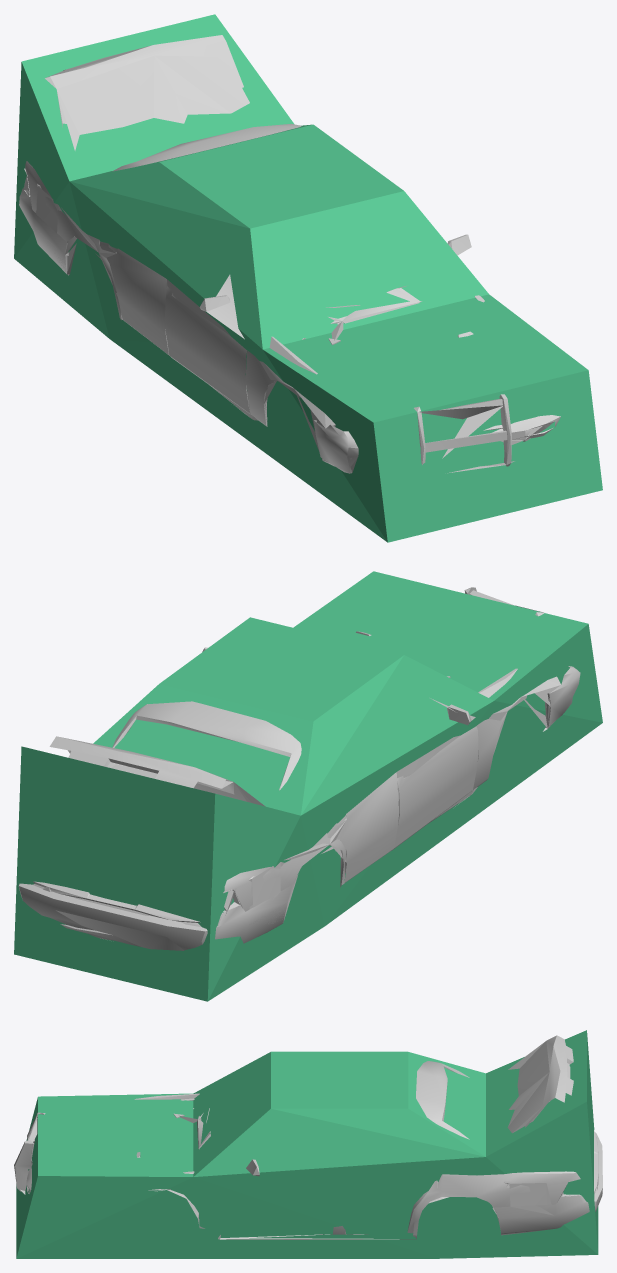
The model's file is ruin_vehicles_marshal.dae.
3 renders of one model, top to bottom at view 1: azimuth 30°, elevation 25°; view 2: azimuth 150°, elevation 25°; view 3: azimuth 270°, elevation 25°, orthographic. The views are drawn at different scales.
Parts seen in each view (by area): view 1: Colmesh-1, ind_bld_a600, ind_bld_a220, ind_bld_a120; view 2: Colmesh-1, ind_bld_a600, ind_bld_a220, ind_bld_a120; view 3: Colmesh-1, ind_bld_a600, ind_bld_a220, ind_bld_a120.
Boxes of the visible parts, <box> form: Colmesh-1: <box>14,14,602,542</box>; ind_bld_a600: <box>19,35,560,473</box>; ind_bld_a220: <box>23,55,553,472</box>; ind_bld_a120: <box>37,56,514,473</box>; Colmesh-1: <box>14,571,602,1001</box>; ind_bld_a600: <box>18,587,580,950</box>; ind_bld_a220: <box>43,605,560,950</box>; ind_bld_a120: <box>194,697,547,919</box>; Colmesh-1: <box>16,1030,598,1258</box>; ind_bld_a600: <box>14,1035,602,1239</box>; ind_bld_a220: <box>29,1041,597,1239</box>; ind_bld_a120: <box>20,1072,549,1194</box>.
Bounding box in the file's own units: 2.29 × 5.71 × 1.65.
